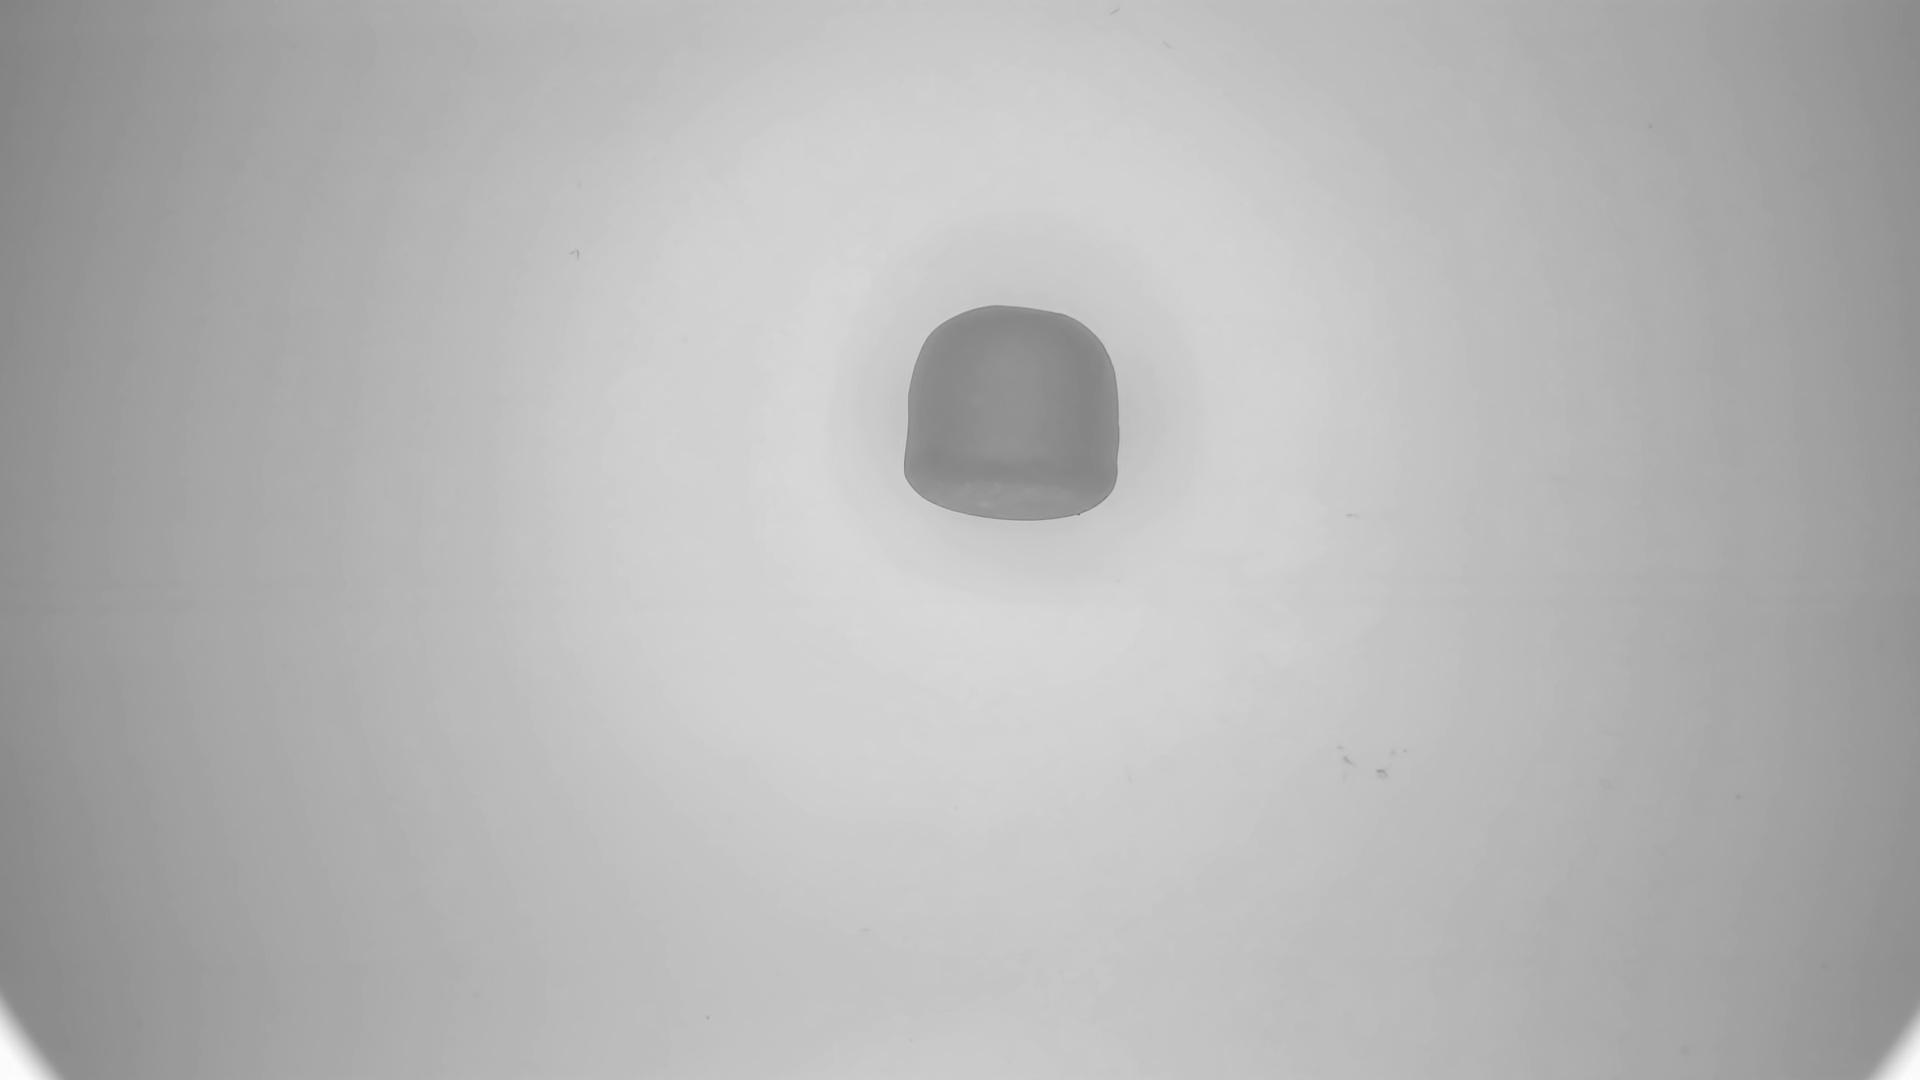normal: (899, 305, 1121, 524)
